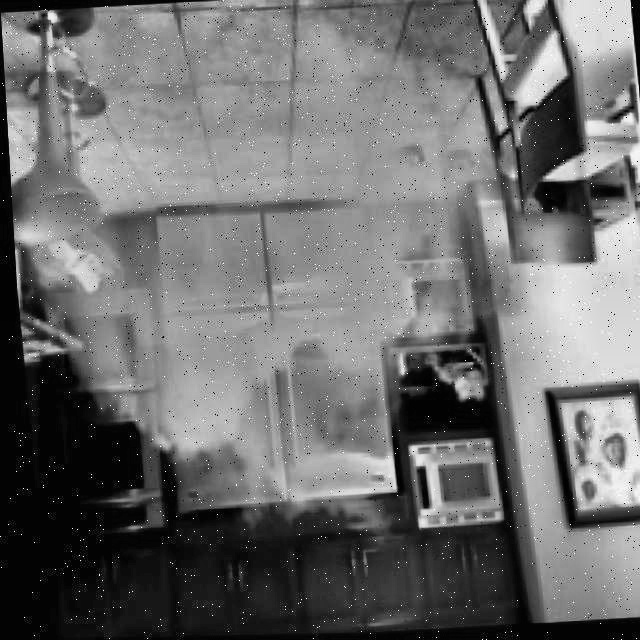Smoke: (1, 0, 553, 566)
